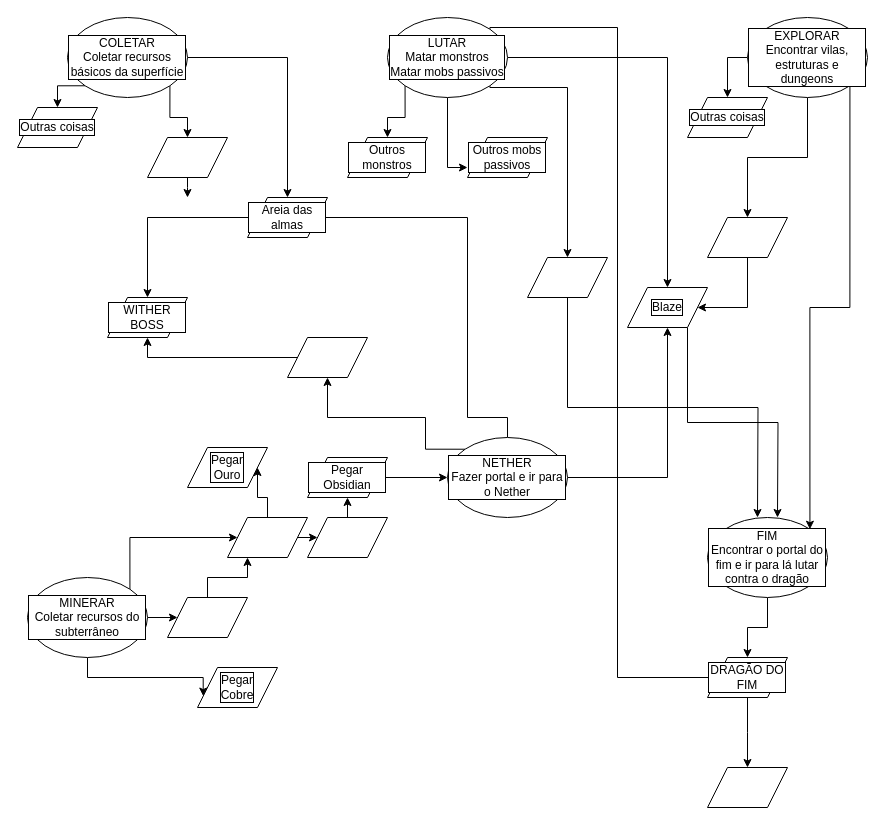
This 885x825 diagram has some shape labels left out. Here are the shapes that lost their labels. From the top down, the box of each, then its label:
(146, 136, 228, 178): Pegar Madeira
(706, 216, 788, 258): Fortaleza do Nether
(526, 256, 608, 298): Enderman
(286, 336, 368, 378): Esqueleto Wither
(226, 516, 308, 558): Pegar Ferro
(306, 516, 388, 558): Pegar Diamante
(166, 596, 248, 638): Pegar Pedra
(706, 766, 788, 808): Fim de jogo!
